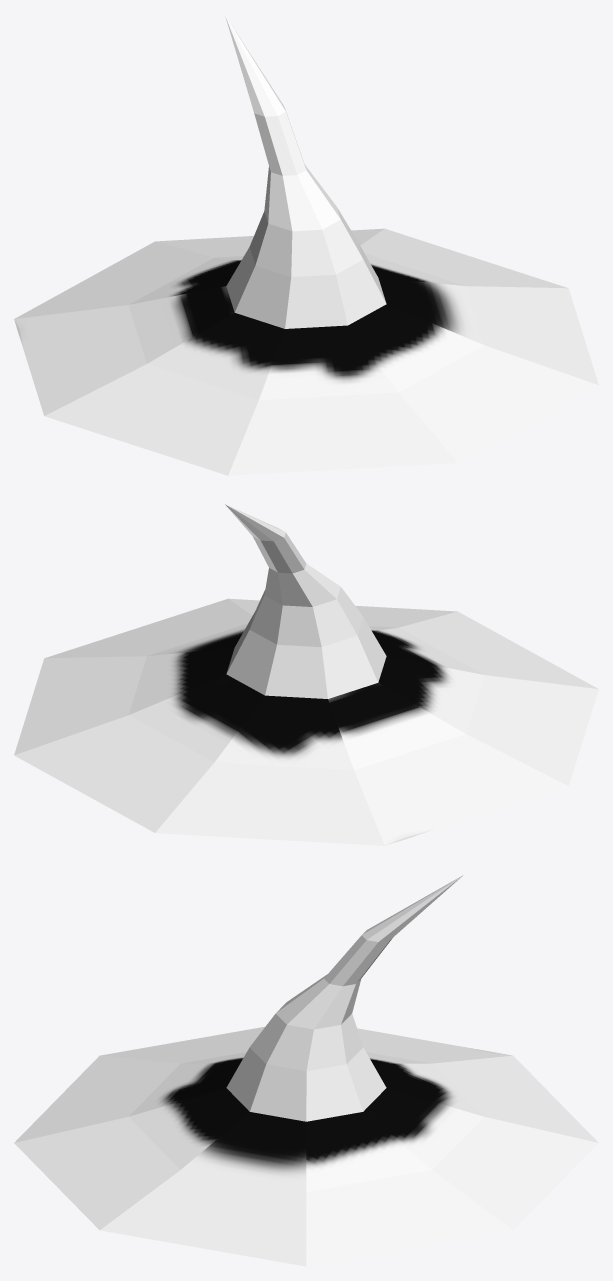
Rendered from Hat.glb.
3 views of the same model, one above another, from view 1: azimuth 30°, elevation 25°; view 2: azimuth 150°, elevation 25°; view 3: azimuth 270°, elevation 25° (orthographic). The views are drawn at different scales.
Parts seen in each view (by area): view 1: Cone; view 2: Cone; view 3: Cone.
Boxes of the visible parts, x1,y1,x2,y2 form: Cone: (14, 15, 598, 475); Cone: (14, 504, 598, 845); Cone: (14, 875, 598, 1266).
Bounding box in the file's own units: 10.26 × 5.2 × 10.26.
Materials: 1 (1 with a texture image).
